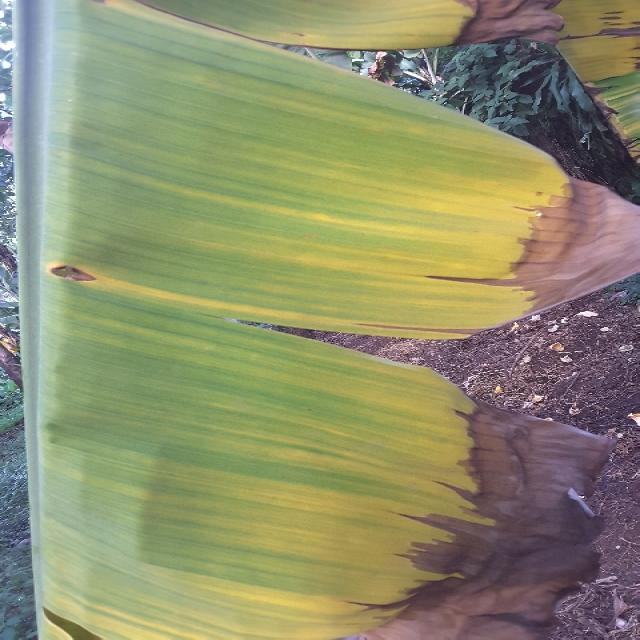Cordana: (133, 0, 640, 640), (504, 0, 640, 126), (37, 249, 141, 354)
